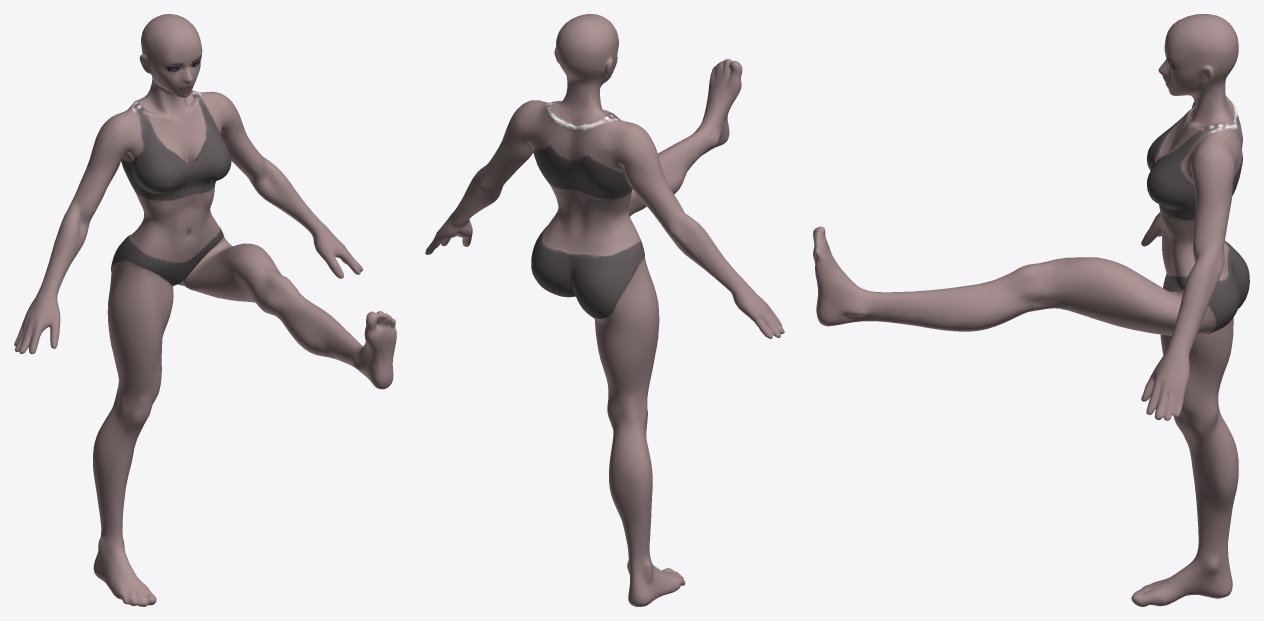
The model's file is full-ThighR-90.glb.
3 renders of one model, left to right at view 1: azimuth 30°, elevation 25°; view 2: azimuth 150°, elevation 25°; view 3: azimuth 270°, elevation 25°, orthographic. The views are drawn at different scales.
Visible parts, largest first — view 1: full-ThighR-90; view 2: full-ThighR-90; view 3: full-ThighR-90.
Part boxes in pixels (x1,y1,x2,y2): full-ThighR-90: (14, 14, 396, 606); full-ThighR-90: (425, 14, 784, 606); full-ThighR-90: (813, 14, 1249, 606).
Size of the model in its own units: 0.6509 by 1 by 0.6451.
1 material, 1 textured.
